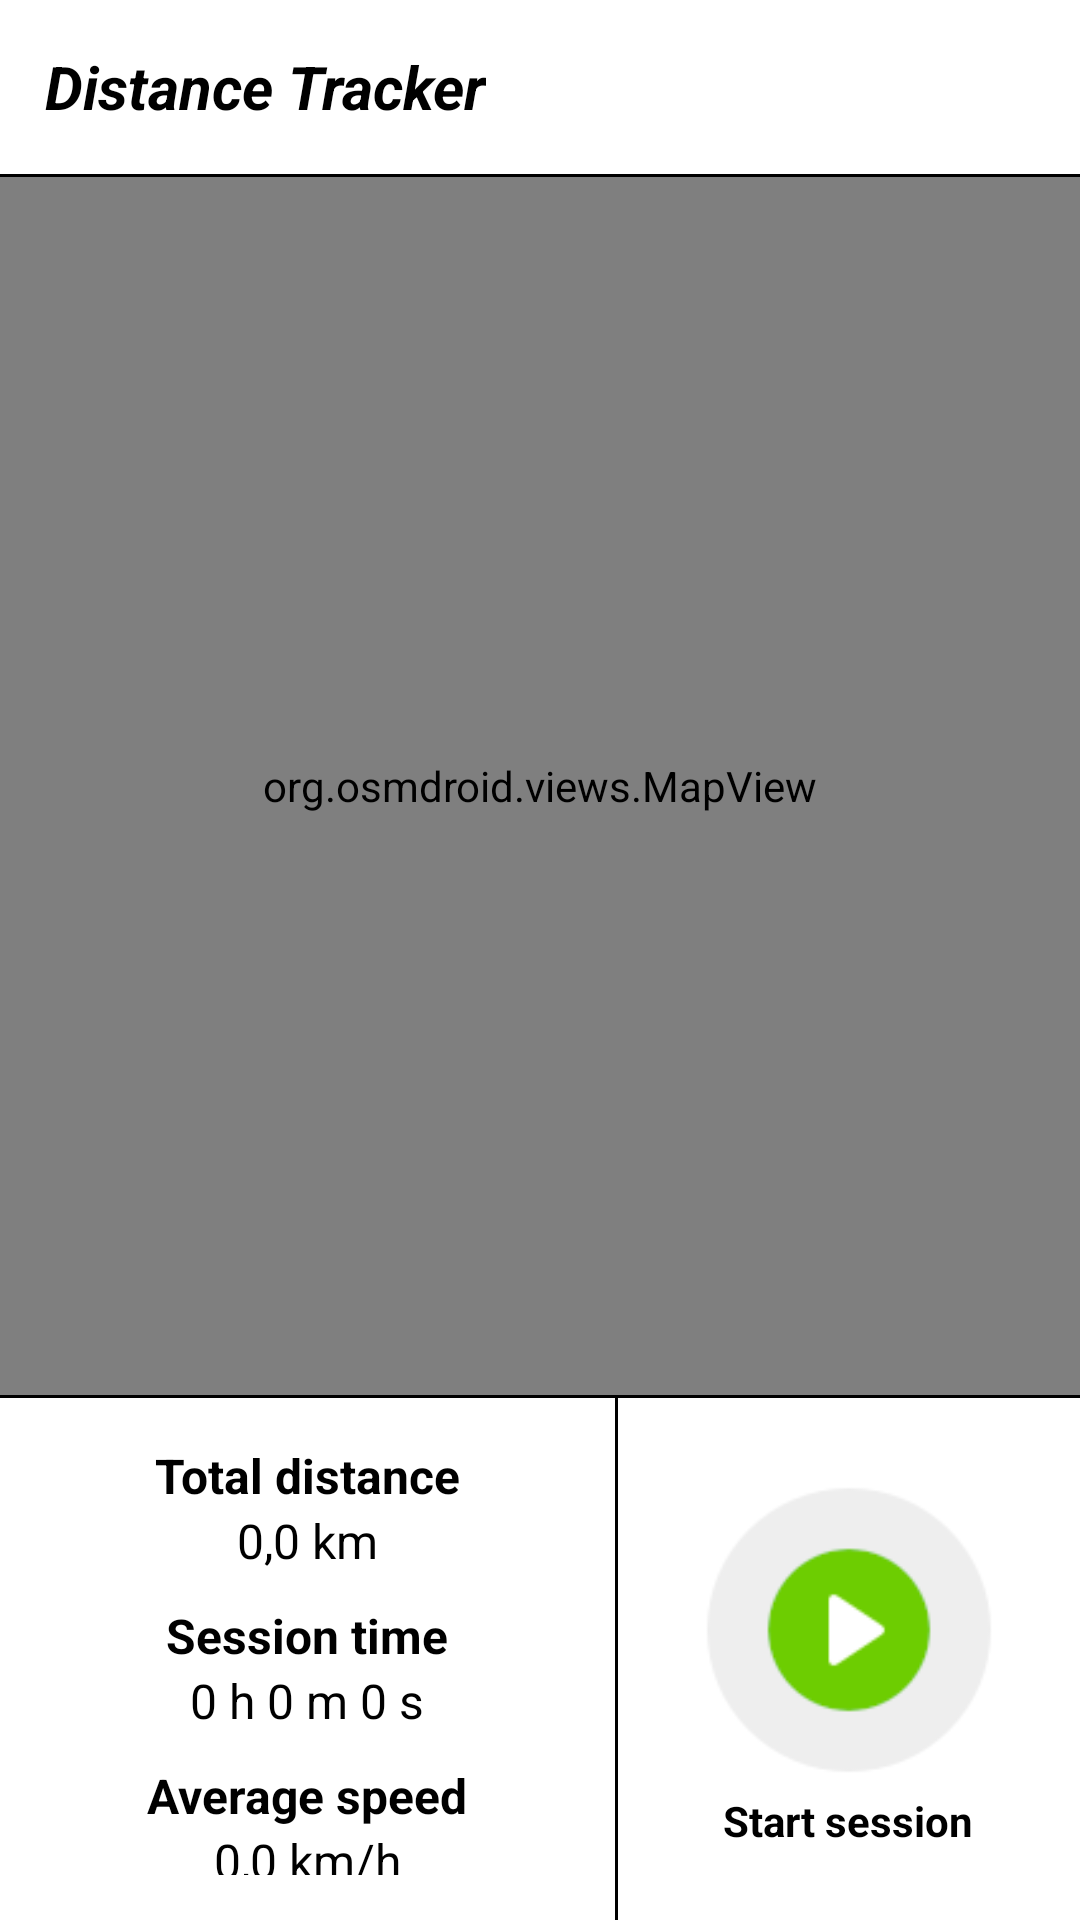

Named icons in this screenshot (1080w x 1920h) and their bounding boxes, [x1, y1, x2, y2]:
btn to start recording: [767, 1548, 931, 1712]
